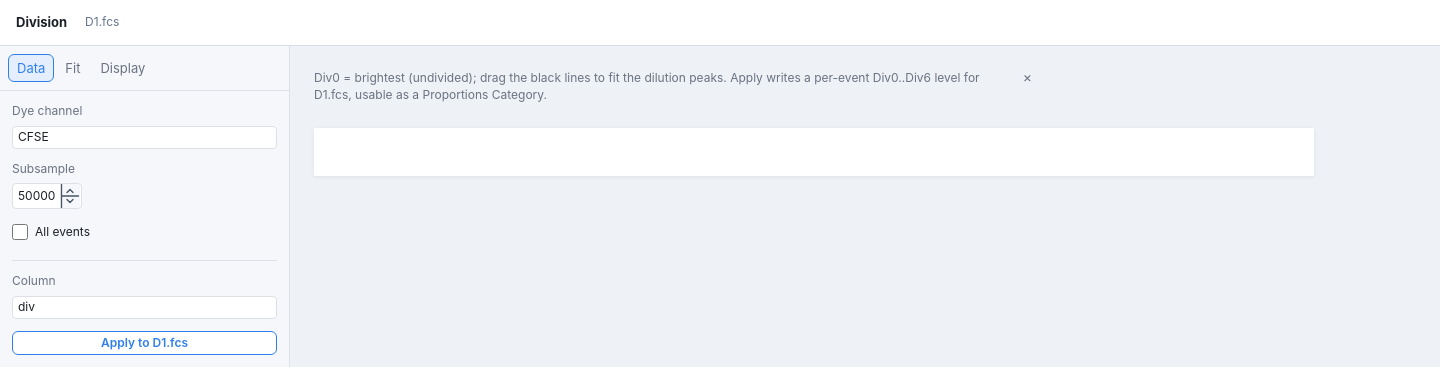
Test: Division tab explanation › hides with × and comes back with ? at the end of the controls
Click the button named "Hide this explanation". click: (1027, 77)
box: [1021,70,1034,84]
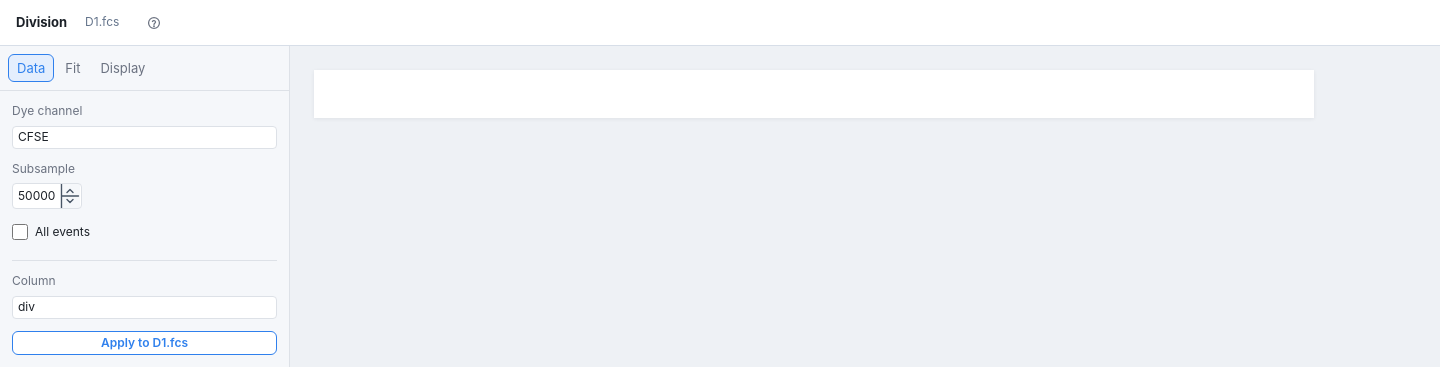
Expected: the text "drag the black lines to fit the dilution peaks" is gone
Click the button named "Show the explanation". click: (154, 22)
box: [145,14,163,32]
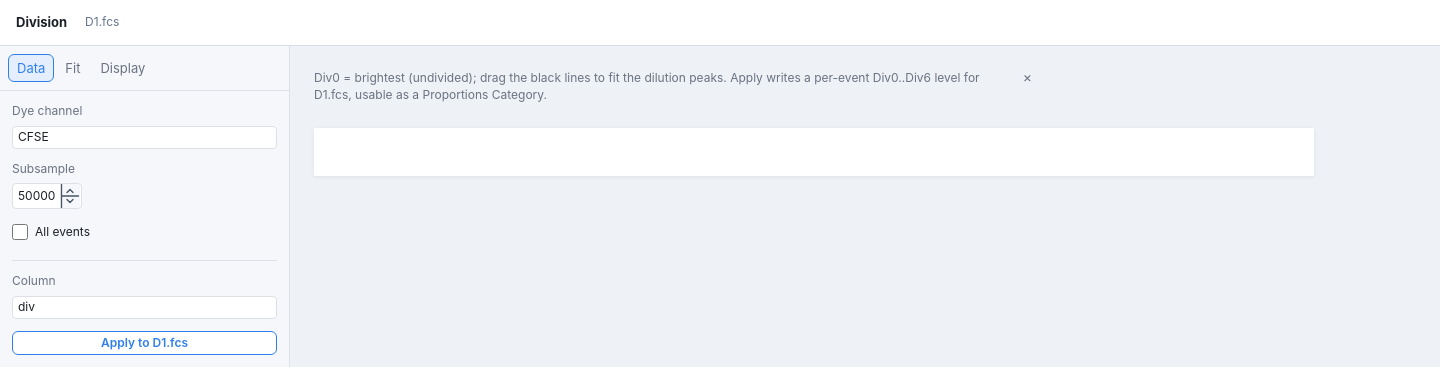
Expected: the text "drag the black lines to fit the dilution peaks" is shown, [314,70,980,102]
